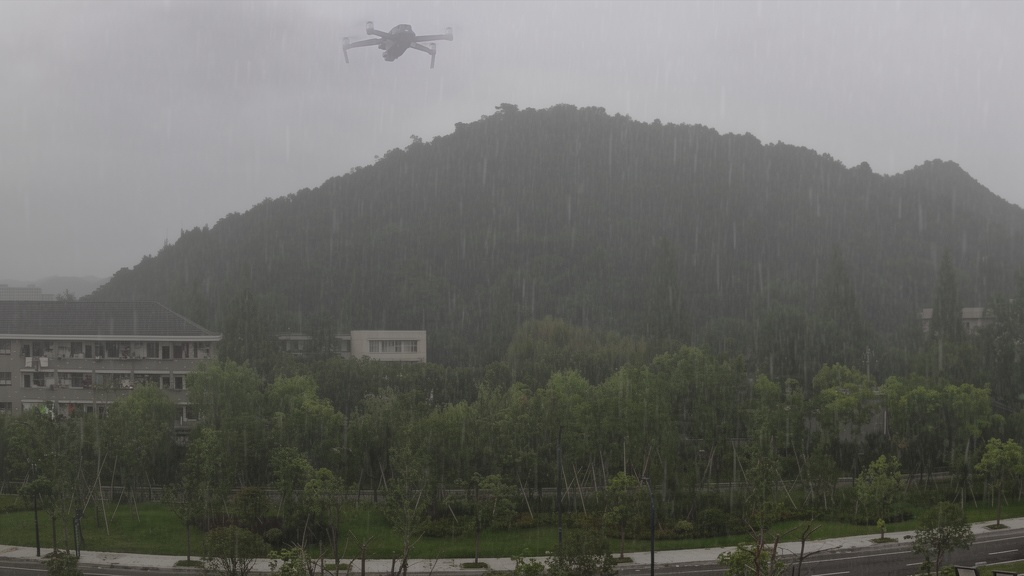UAV: (340, 19, 456, 71)
